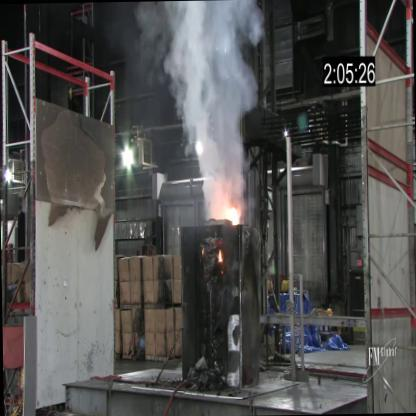fire: (214, 202, 244, 228)
smoke: (163, 0, 265, 196)
